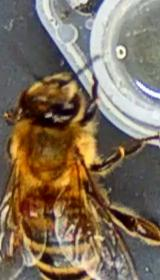varroa_mite: (12, 189, 46, 227)
